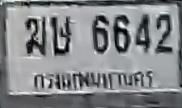2: (155, 13, 172, 53)
4: (134, 13, 150, 52)
6: (90, 14, 107, 53), (112, 14, 128, 52)
A06: (24, 16, 46, 54)
A39: (49, 15, 71, 55)
BKK: (31, 66, 156, 94)
